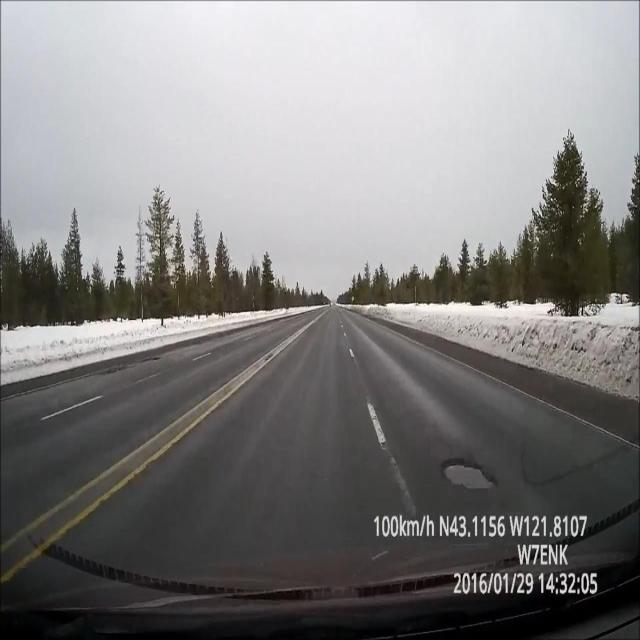pothole: (442, 460, 495, 492)
